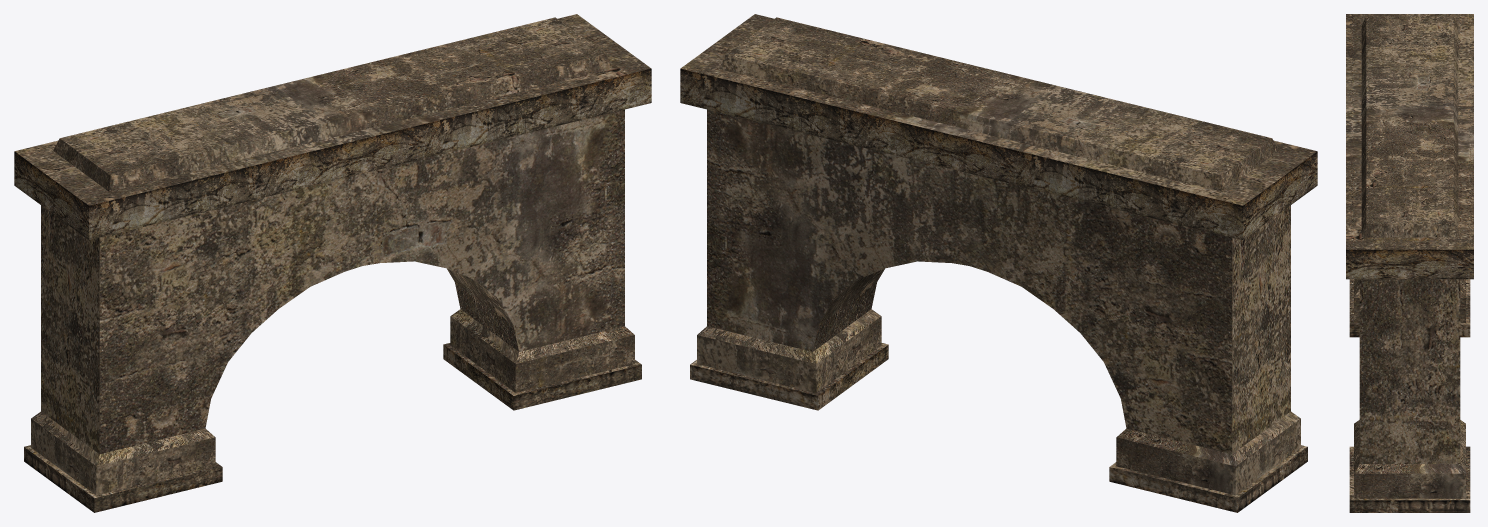
Rendered from materials_5_arch_15.fbx.
3 views of the same model, side by side, from view 1: azimuth 30°, elevation 25°; view 2: azimuth 150°, elevation 25°; view 3: azimuth 270°, elevation 25° (orthographic). The views are drawn at different scales.
Visible parts, largest first — view 1: materials_5_arch_15; view 2: materials_5_arch_15; view 3: materials_5_arch_15.
Part boxes in pixels (<box>): materials_5_arch_15: <box>14,14,651,512</box>; materials_5_arch_15: <box>680,14,1317,512</box>; materials_5_arch_15: <box>1346,14,1473,512</box>.
Size of the model in its own units: 136 by 74.55 by 31.11.
